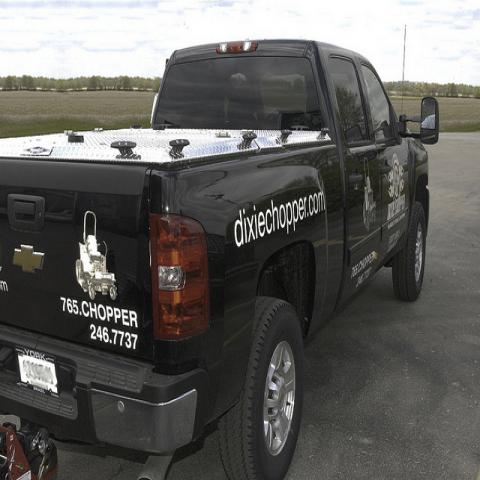truck: (0, 40, 443, 480)
